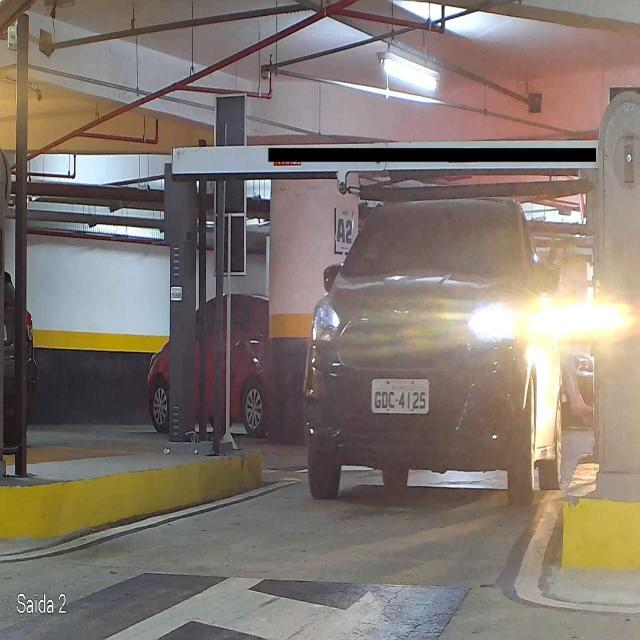old_plate: (369, 376, 432, 417)
